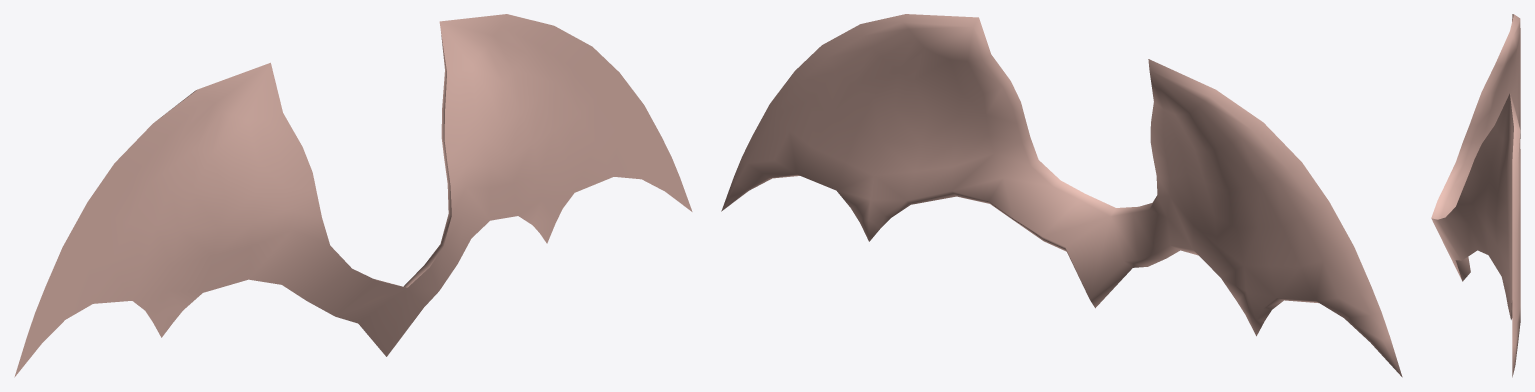
Rendered from Fbx_Wing_1.fbx.
3 views of the same model, side by side, from view 1: azimuth 30°, elevation 25°; view 2: azimuth 150°, elevation 25°; view 3: azimuth 270°, elevation 25° (orthographic). The views are drawn at different scales.
Visible parts, largest first — view 1: Wing1; view 2: Wing1; view 3: Wing1.
Part boxes in pixels (<box>): Wing1: <box>14,14,692,377</box>; Wing1: <box>721,14,1402,377</box>; Wing1: <box>1431,14,1520,377</box>.
Bounding box in the file's own units: 112 × 46.17 × 17.06.
